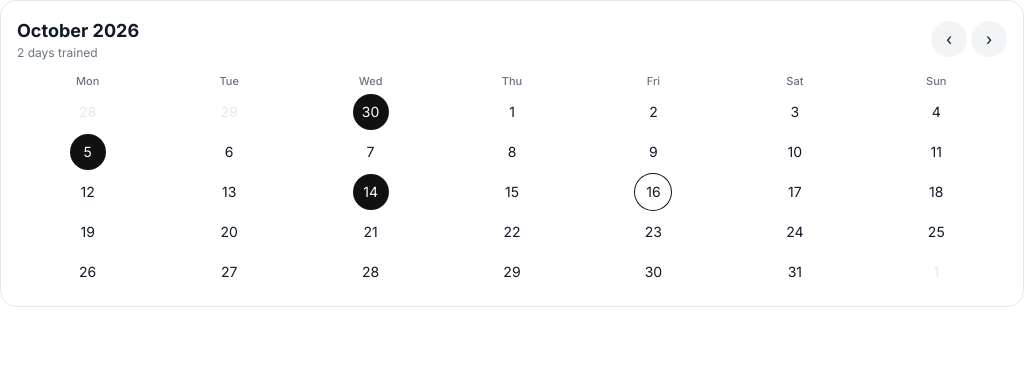
Test: MonthCalendar › month arrows change the month and clear the selection
Click the button "5" at {"x": 88, "y": 152}, box [70, 134, 106, 170]
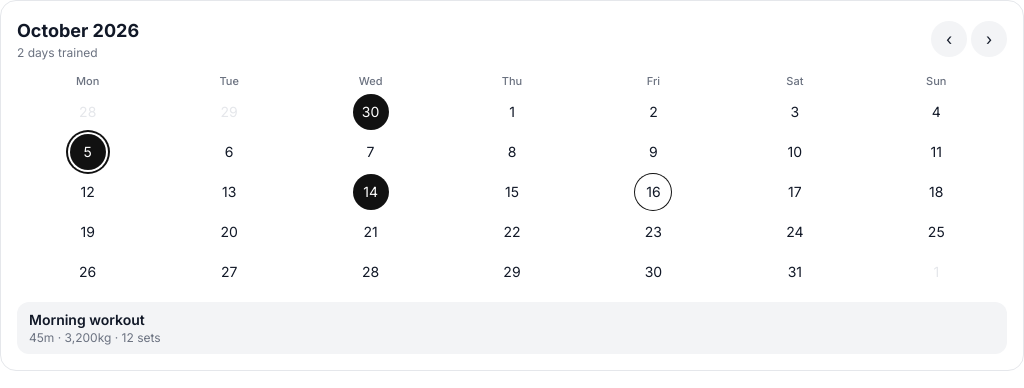
Expected: the list is shown, [17, 302, 1007, 354]
Click the button named "Previous month" at {"x": 949, "y": 39}, box [931, 21, 967, 57]
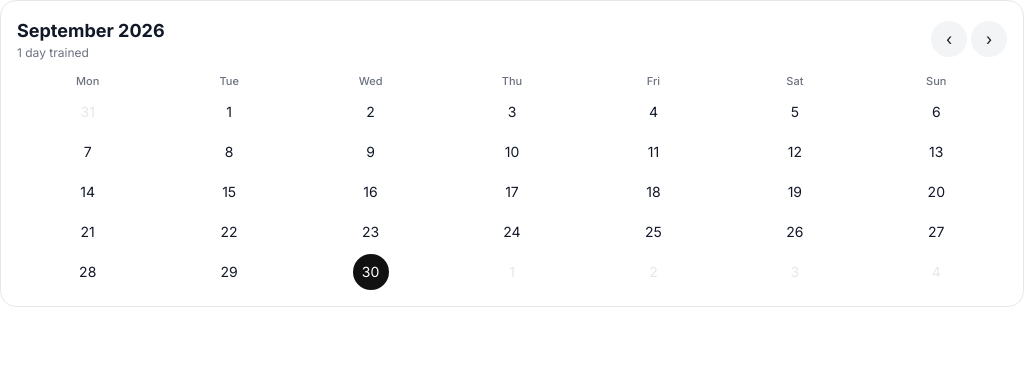
Expected: the list is gone
Expected: the text "1 day trained" is shown, [17, 45, 89, 60]
Click the button "30" at {"x": 371, "y": 272}, box [353, 254, 389, 290]
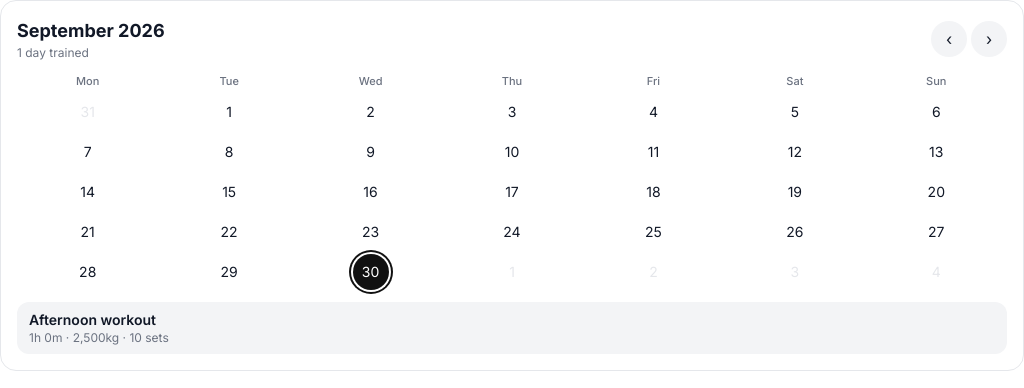
Expected: the text "Afternoon workout" is shown, [29, 310, 156, 328]
Click the button named "Next month" at {"x": 989, "y": 39}, box [971, 21, 1007, 57]
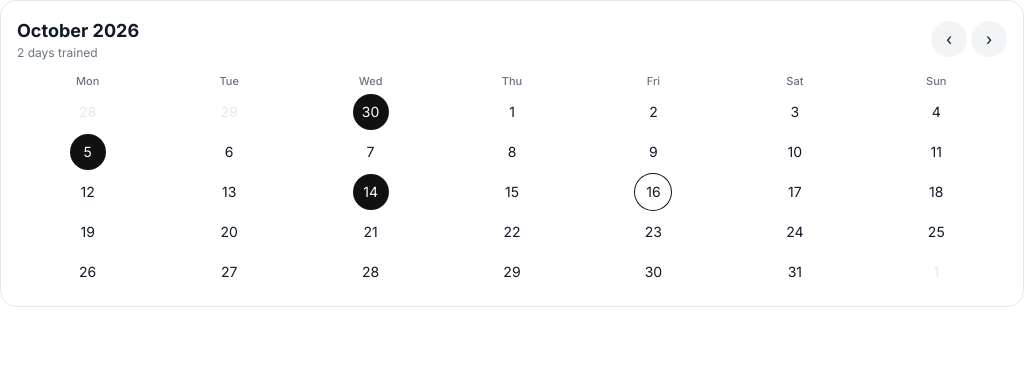
Click the button named "Next month" at {"x": 989, "y": 39}, box [971, 21, 1007, 57]
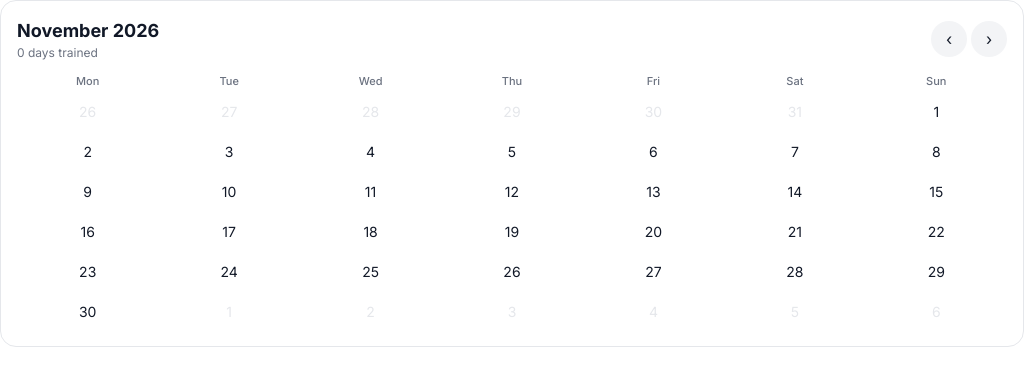
Expected: the text "0 days trained" is shown, [17, 45, 98, 60]
